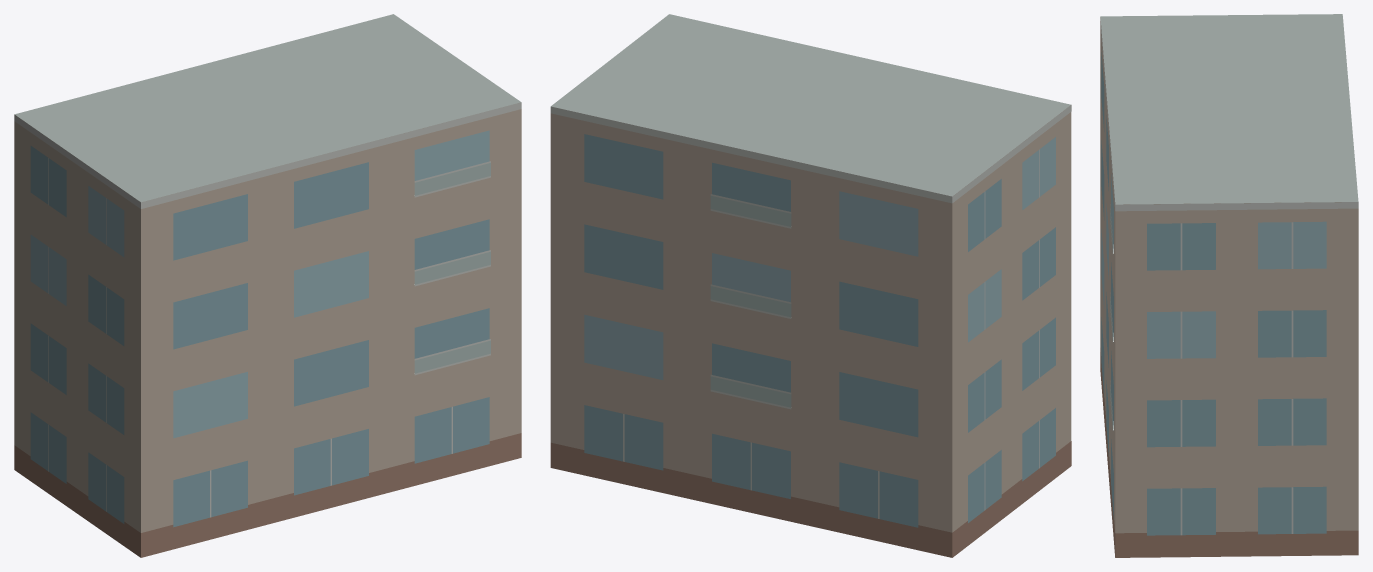
The model's file is survey-upis-32618393.glb.
3 views of the same model, side by side, from view 1: azimuth 30°, elevation 25°; view 2: azimuth 150°, elevation 25°; view 3: azimuth 270°, elevation 25° (orthographic). The views are drawn at different scales.
Parts seen in each view (by area): view 1: survey-upis-32618393.tmp; view 2: survey-upis-32618393.tmp; view 3: survey-upis-32618393.tmp.
Boxes of the visible parts, x1=… form: survey-upis-32618393.tmp: x1=14, y1=14, x2=521, y2=557; survey-upis-32618393.tmp: x1=550, y1=14, x2=1071, y2=557; survey-upis-32618393.tmp: x1=1100, y1=14, x2=1358, y2=557.
Bounding box in the file's own units: 14.81 × 12.8 × 8.49.
